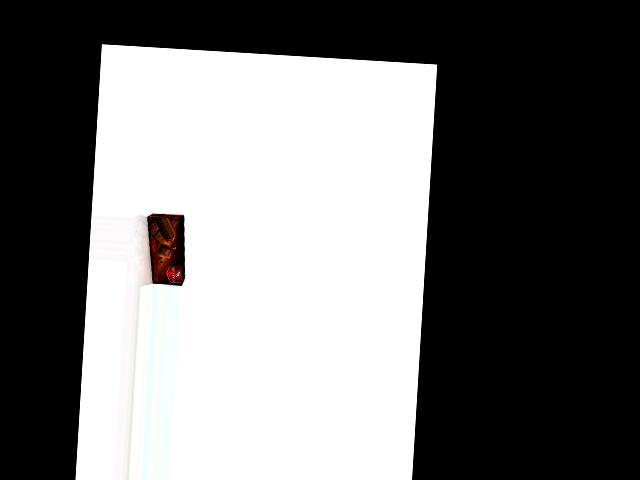chocolate: (142, 213, 189, 286)
